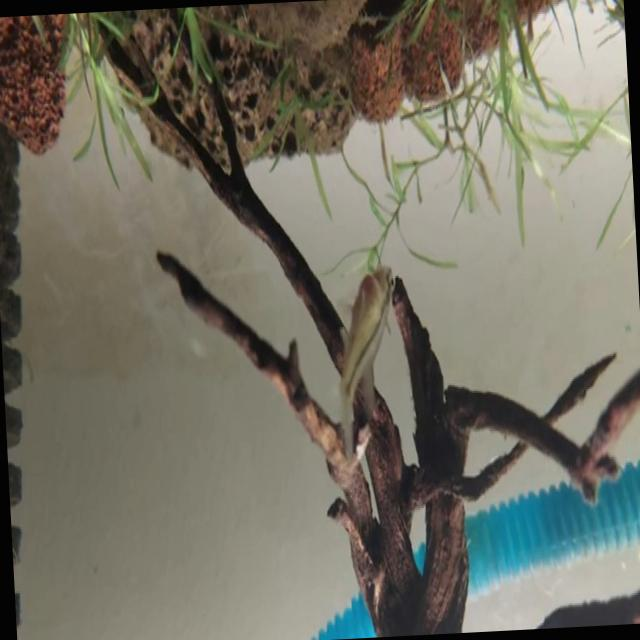Cakil Baligi: (333, 248, 408, 452)
